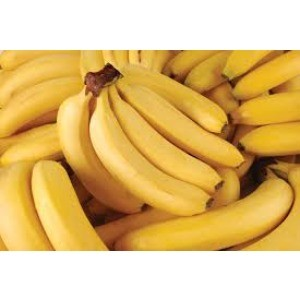banana_brain food: (59, 80, 214, 185)
